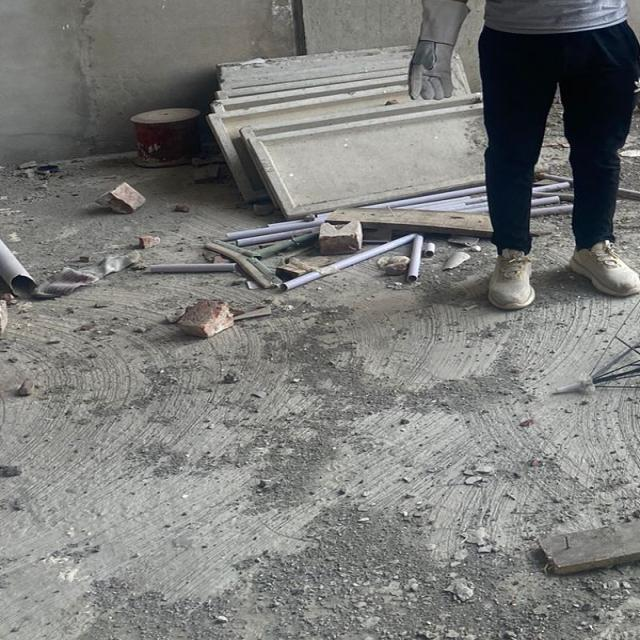Boot: (564, 237, 640, 299), (486, 248, 540, 310)
Glove: (404, 0, 470, 101), (639, 0, 640, 90)
